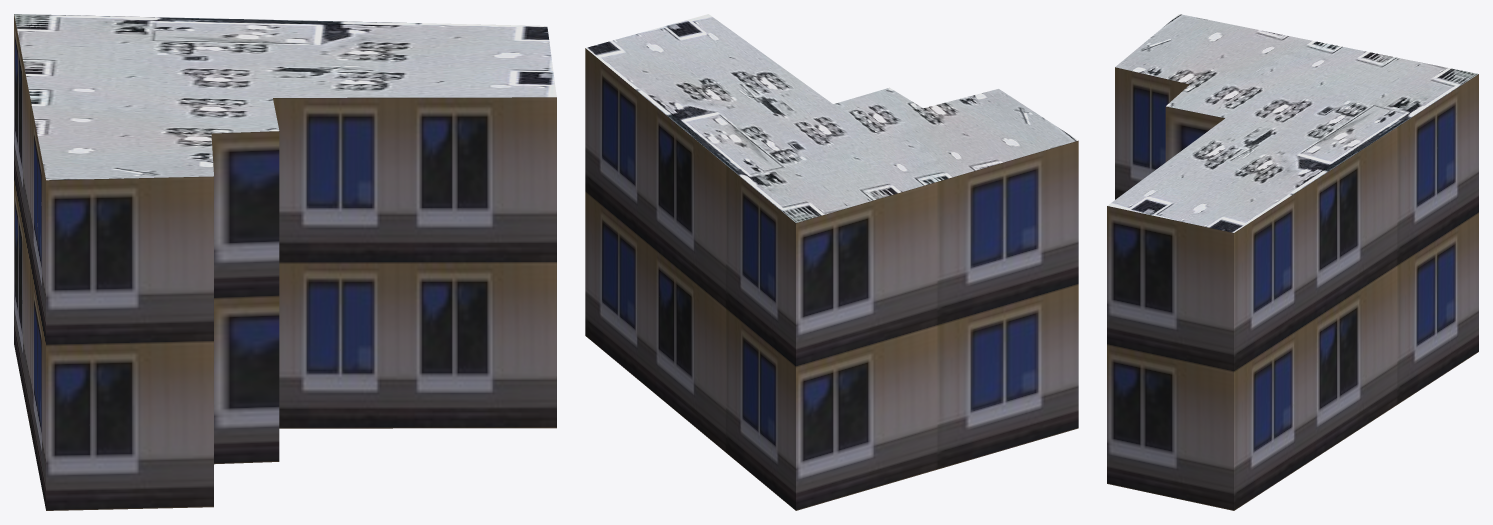
The model's file is ResTex__713.fbx.
3 renders of one model, left to right at view 1: azimuth 30°, elevation 25°; view 2: azimuth 150°, elevation 25°; view 3: azimuth 270°, elevation 25°, orthographic. The views are drawn at different scales.
Visible parts, largest first — view 1: CityEngineMaterial_5_m, CityEngineMaterial_8_m; view 2: CityEngineMaterial_5_m, CityEngineMaterial_8_m; view 3: CityEngineMaterial_5_m, CityEngineMaterial_8_m.
Part boxes in pixels (x1=…): CityEngineMaterial_5_m: x1=14, y1=14, x2=556, y2=510; CityEngineMaterial_8_m: x1=14, y1=14, x2=556, y2=180; CityEngineMaterial_5_m: x1=585, y1=48, x2=1078, y2=510; CityEngineMaterial_8_m: x1=586, y1=14, x2=1077, y2=222; CityEngineMaterial_5_m: x1=1107, y1=67, x2=1478, y2=510; CityEngineMaterial_8_m: x1=1107, y1=14, x2=1478, y2=232.
Size of the model in its own units: 10.14 by 6 by 7.27.
Materials: 2 (2 with a texture image).
